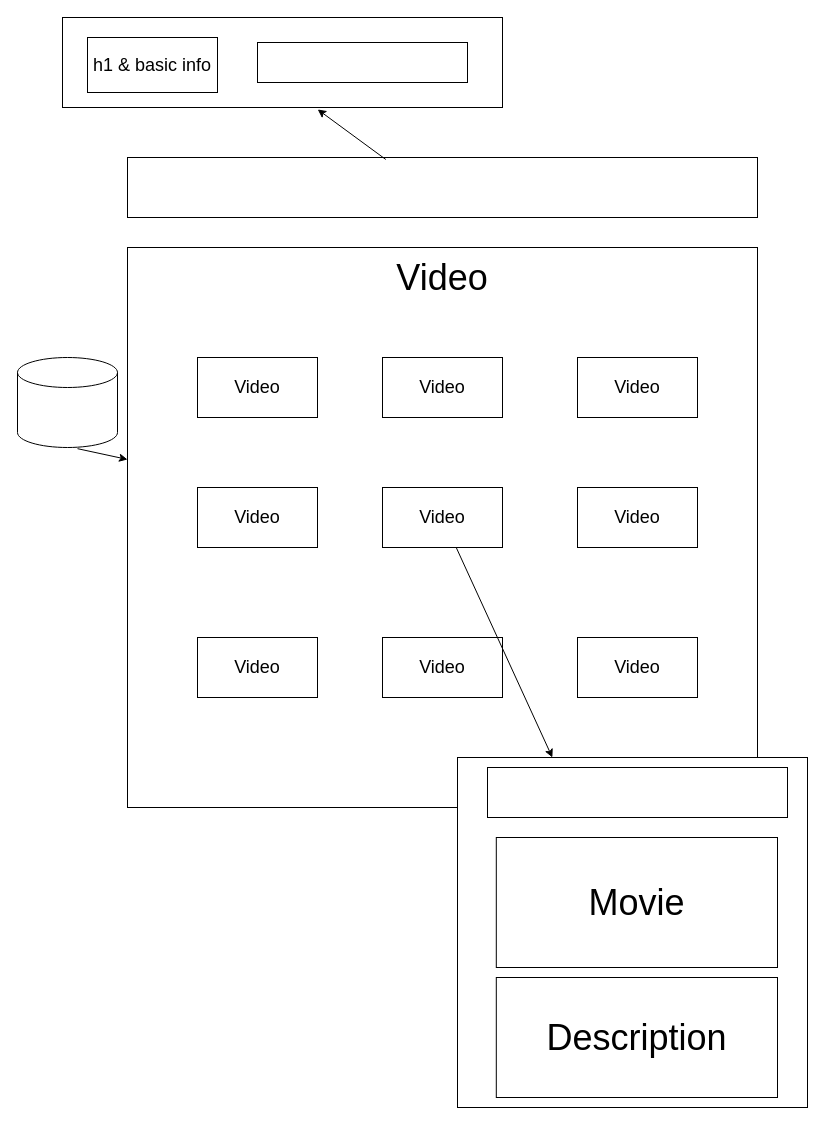
Some shapes in this 825 by 1125 pixel diagram are drawn without their labels. The shapes that lost their labels are listed below. From the top down, each one's box as (x1, y1, x2, y2) in pixels, then its label:
(256, 42, 468, 82): Routing links
(126, 156, 758, 218): Header
(16, 356, 118, 448): database.json
(486, 766, 788, 818): Title
